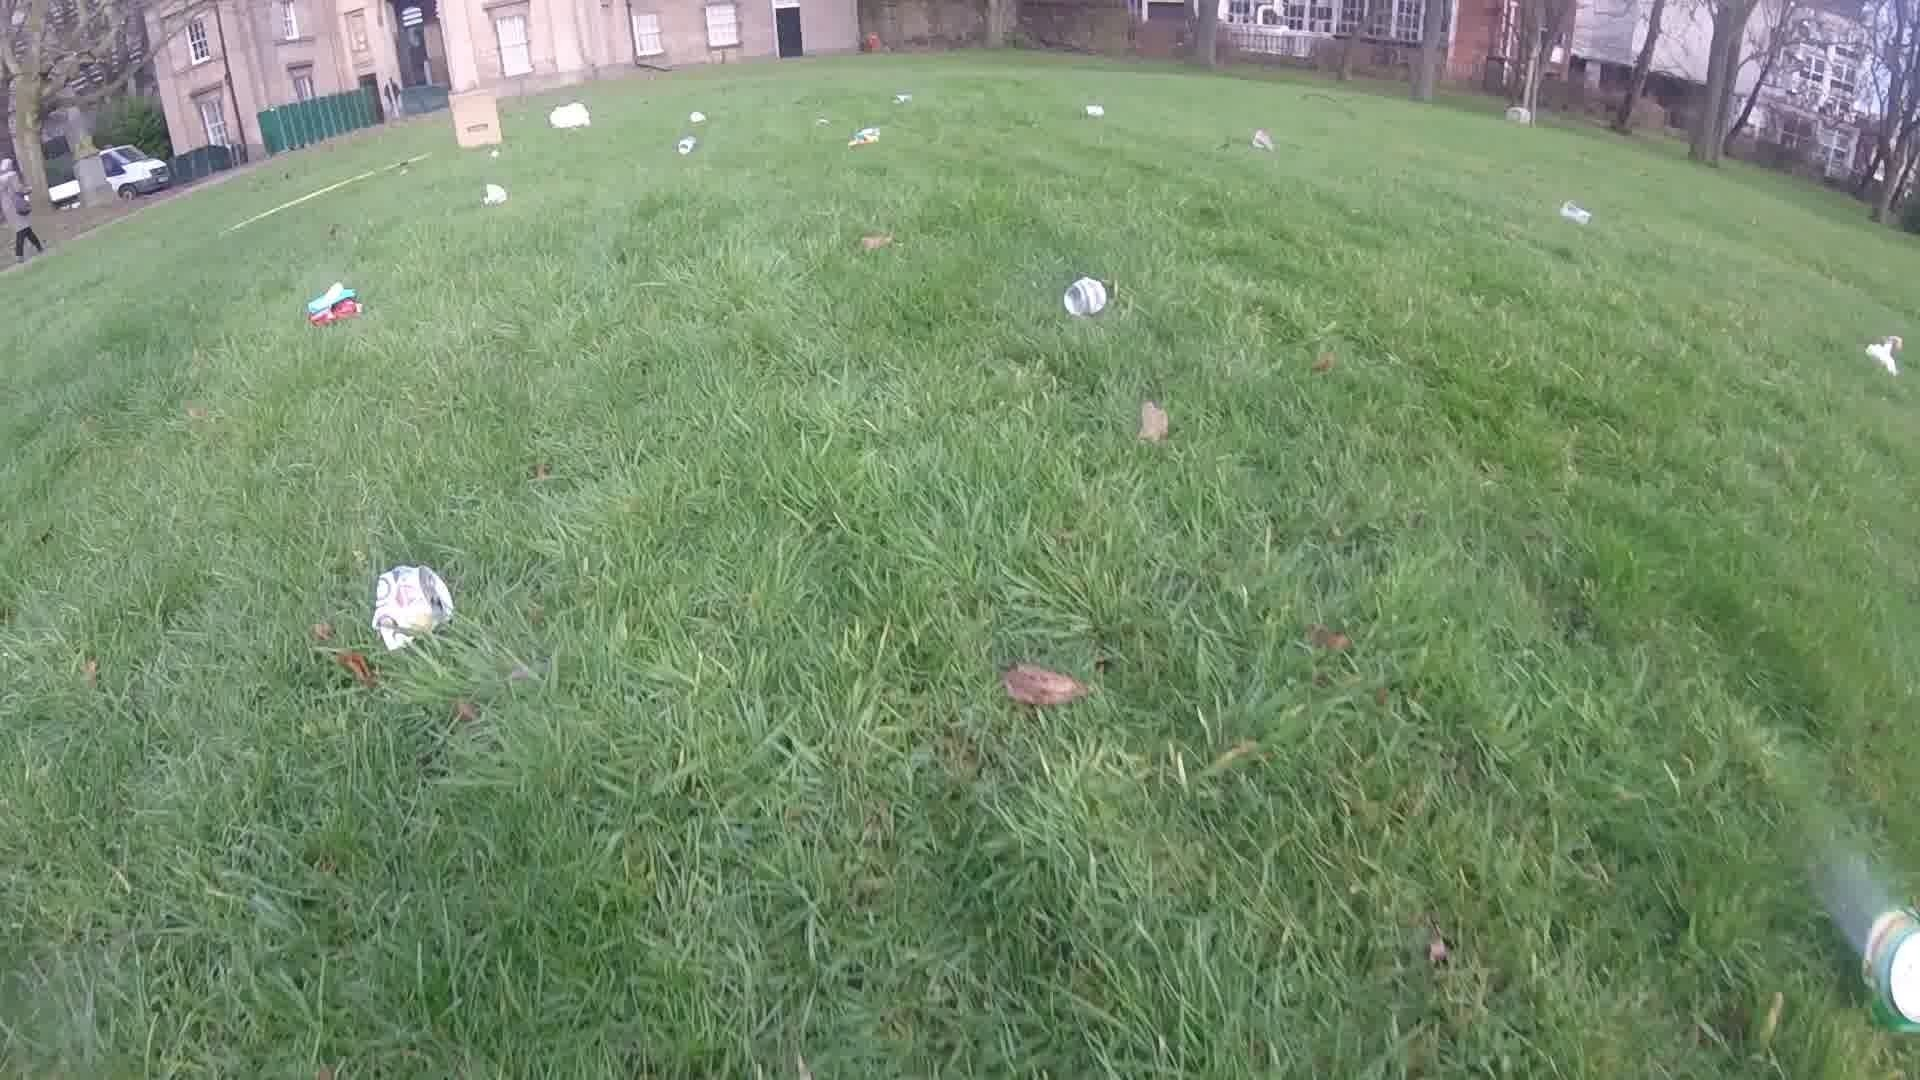litter: (1855, 903, 1920, 1036), (372, 558, 448, 649), (448, 90, 502, 146), (306, 280, 360, 326), (1062, 276, 1106, 318), (1865, 336, 1900, 375), (549, 102, 593, 129), (1557, 200, 1594, 228), (847, 127, 880, 146), (484, 183, 506, 207), (1251, 128, 1273, 150), (676, 138, 698, 154), (1084, 104, 1104, 115), (686, 111, 703, 123), (491, 148, 502, 158), (895, 95, 906, 102)
